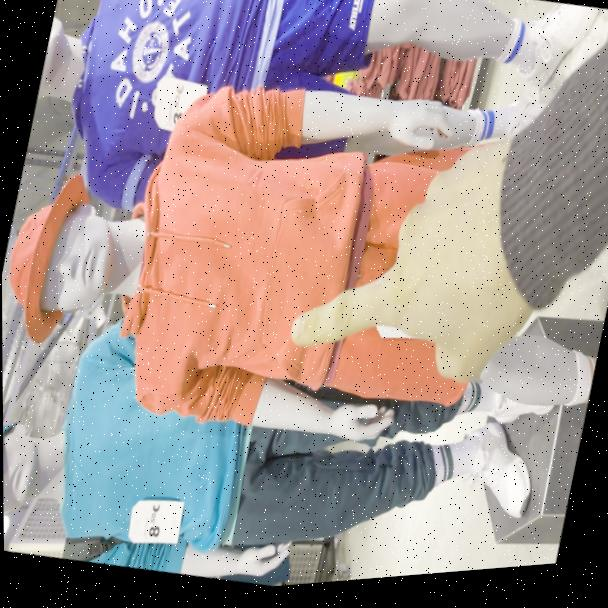one: (272, 85, 561, 424)
